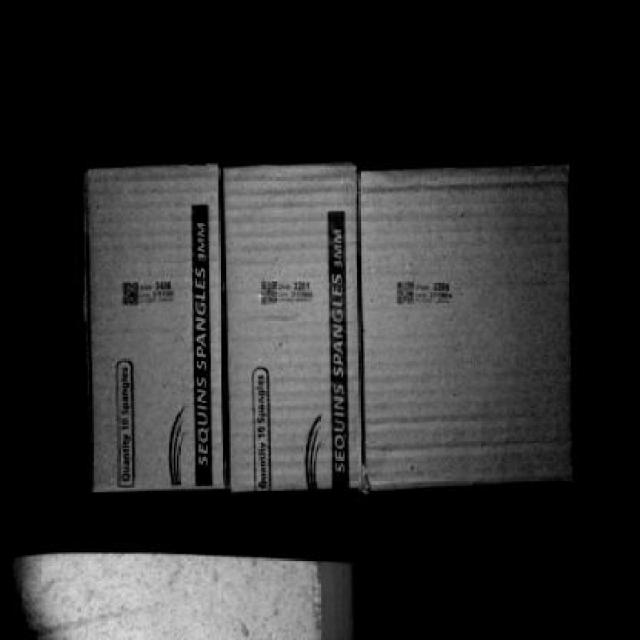cardboxes: (358, 164, 572, 484), (85, 164, 228, 490), (225, 164, 364, 498)
